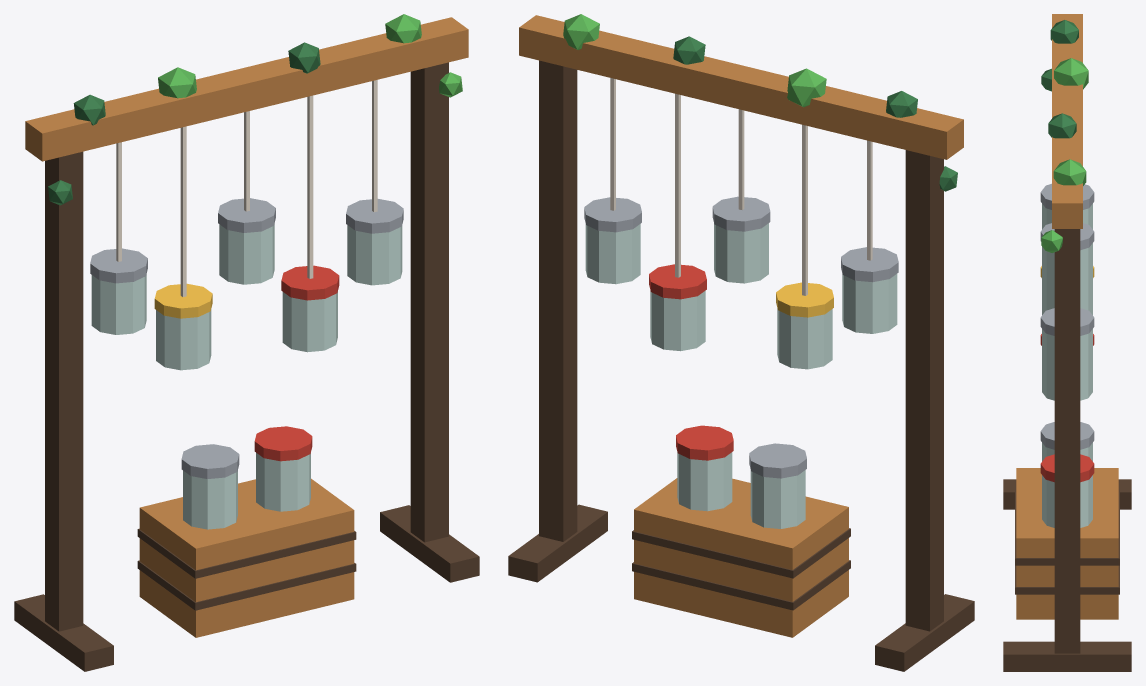
File: CatCafe_Decor_JarLights.glb
3 renders of one model, left to right at view 1: azimuth 30°, elevation 25°; view 2: azimuth 150°, elevation 25°; view 3: azimuth 270°, elevation 25°, orthographic. The views are drawn at different scales.
Parts seen in each view (by area): view 1: CatCafe_Decor_JarLights; view 2: CatCafe_Decor_JarLights; view 3: CatCafe_Decor_JarLights.
Boxes of the visible parts, x1,y1,x2,y2 form: CatCafe_Decor_JarLights: [14, 14, 479, 671]; CatCafe_Decor_JarLights: [508, 14, 974, 671]; CatCafe_Decor_JarLights: [1003, 14, 1131, 671].
Size of the model in its own units: 3.5 by 4.28 by 1.
Materials: 1 (1 with a texture image).
